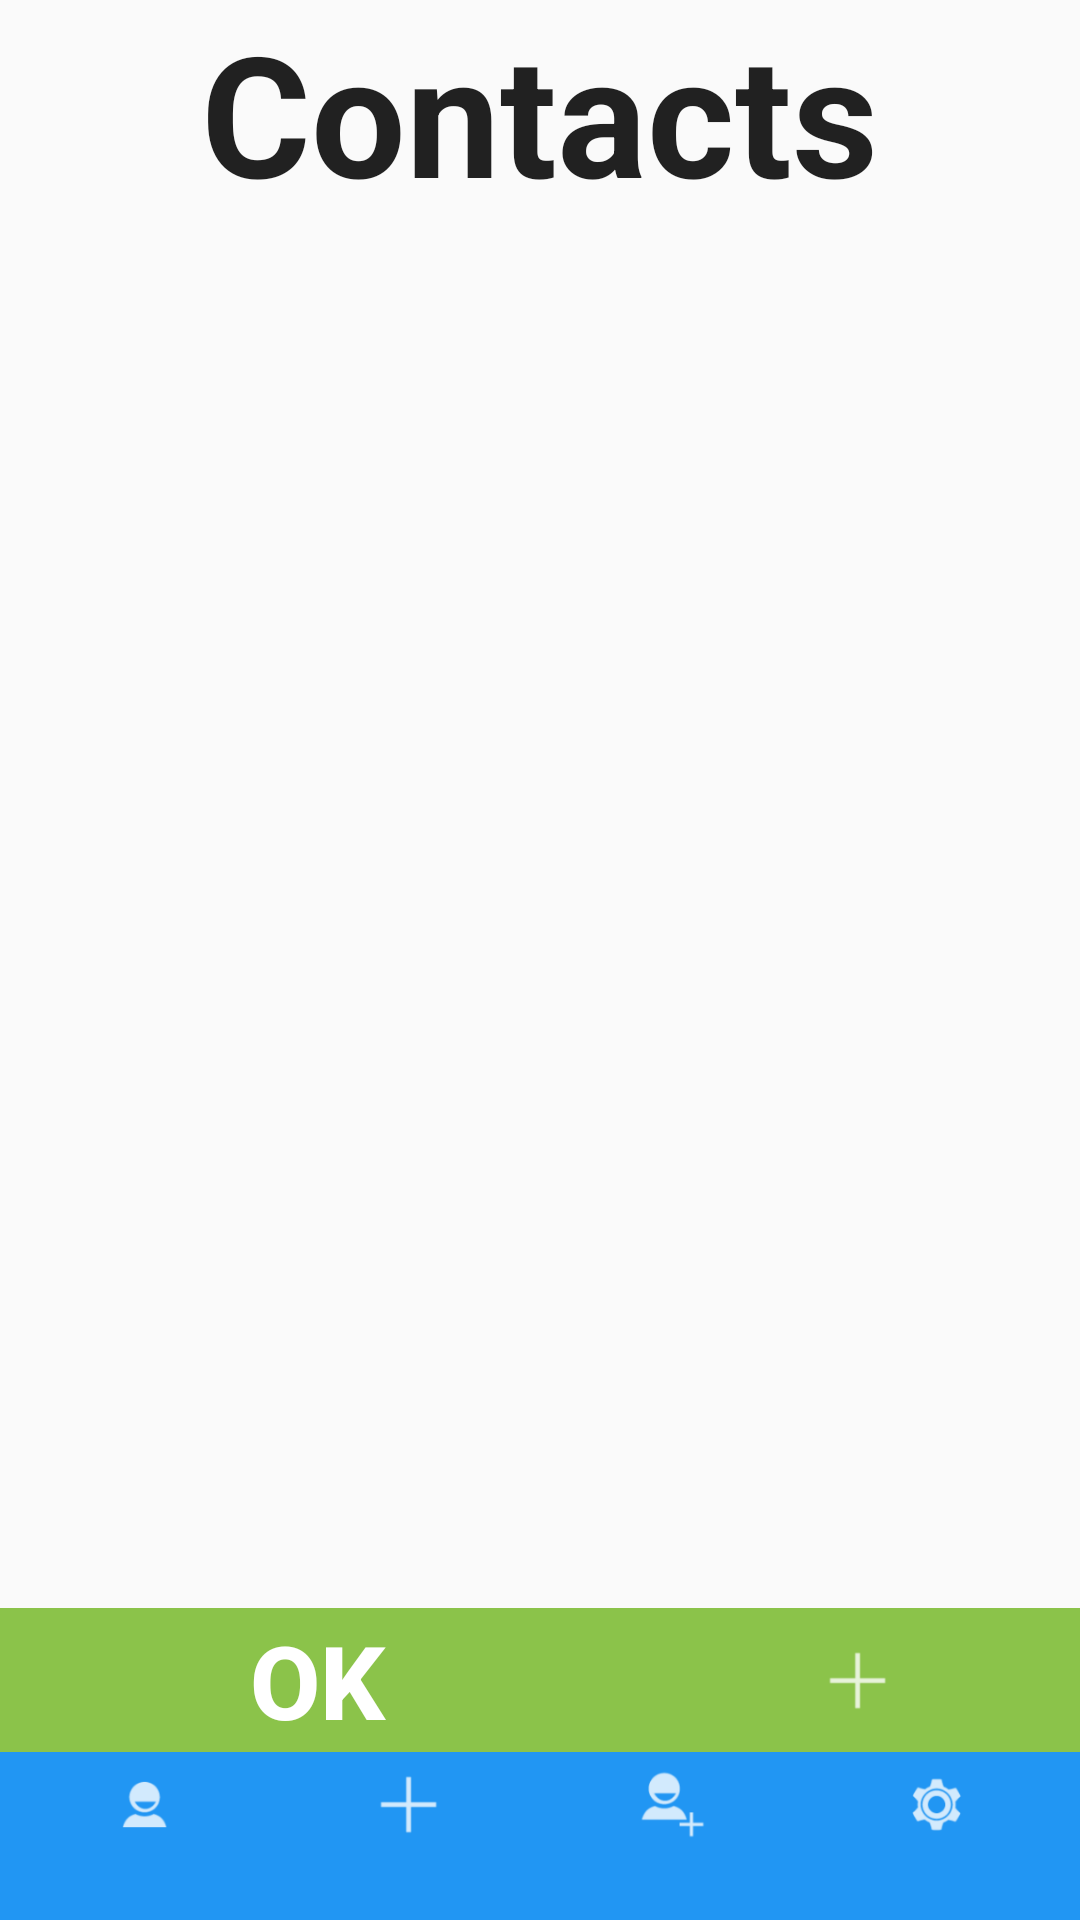

Locate icon controls on the screen. Image size 1080x1920, boxes as (x1, y1, x2, y2).
Settings: (912, 1778, 961, 1831)
User: (123, 1782, 167, 1828)
